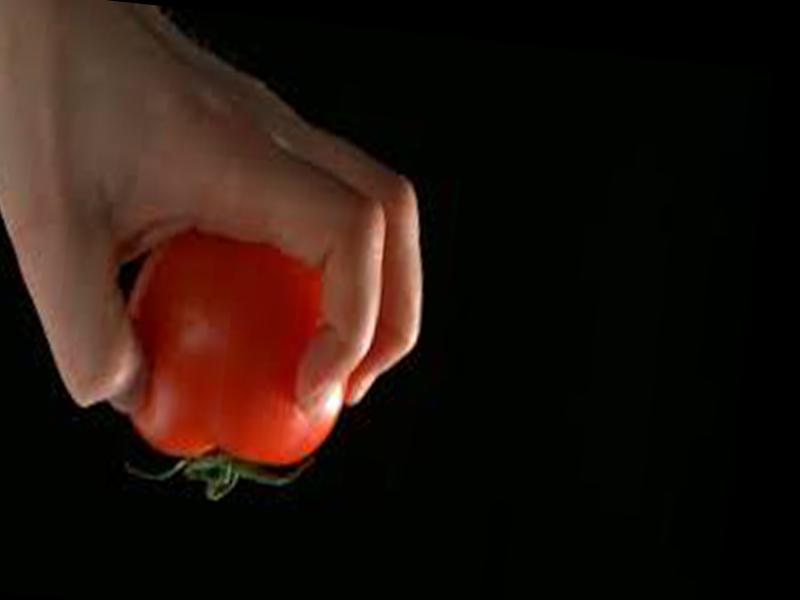Tomato: (110, 232, 357, 508)
